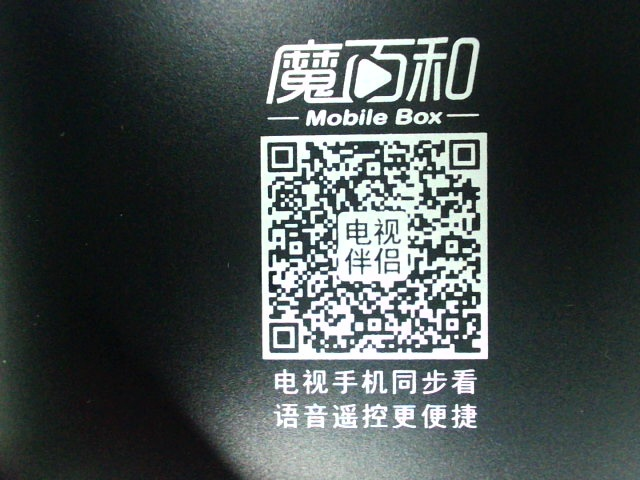AZ_MobileBox: (246, 32, 495, 433)
